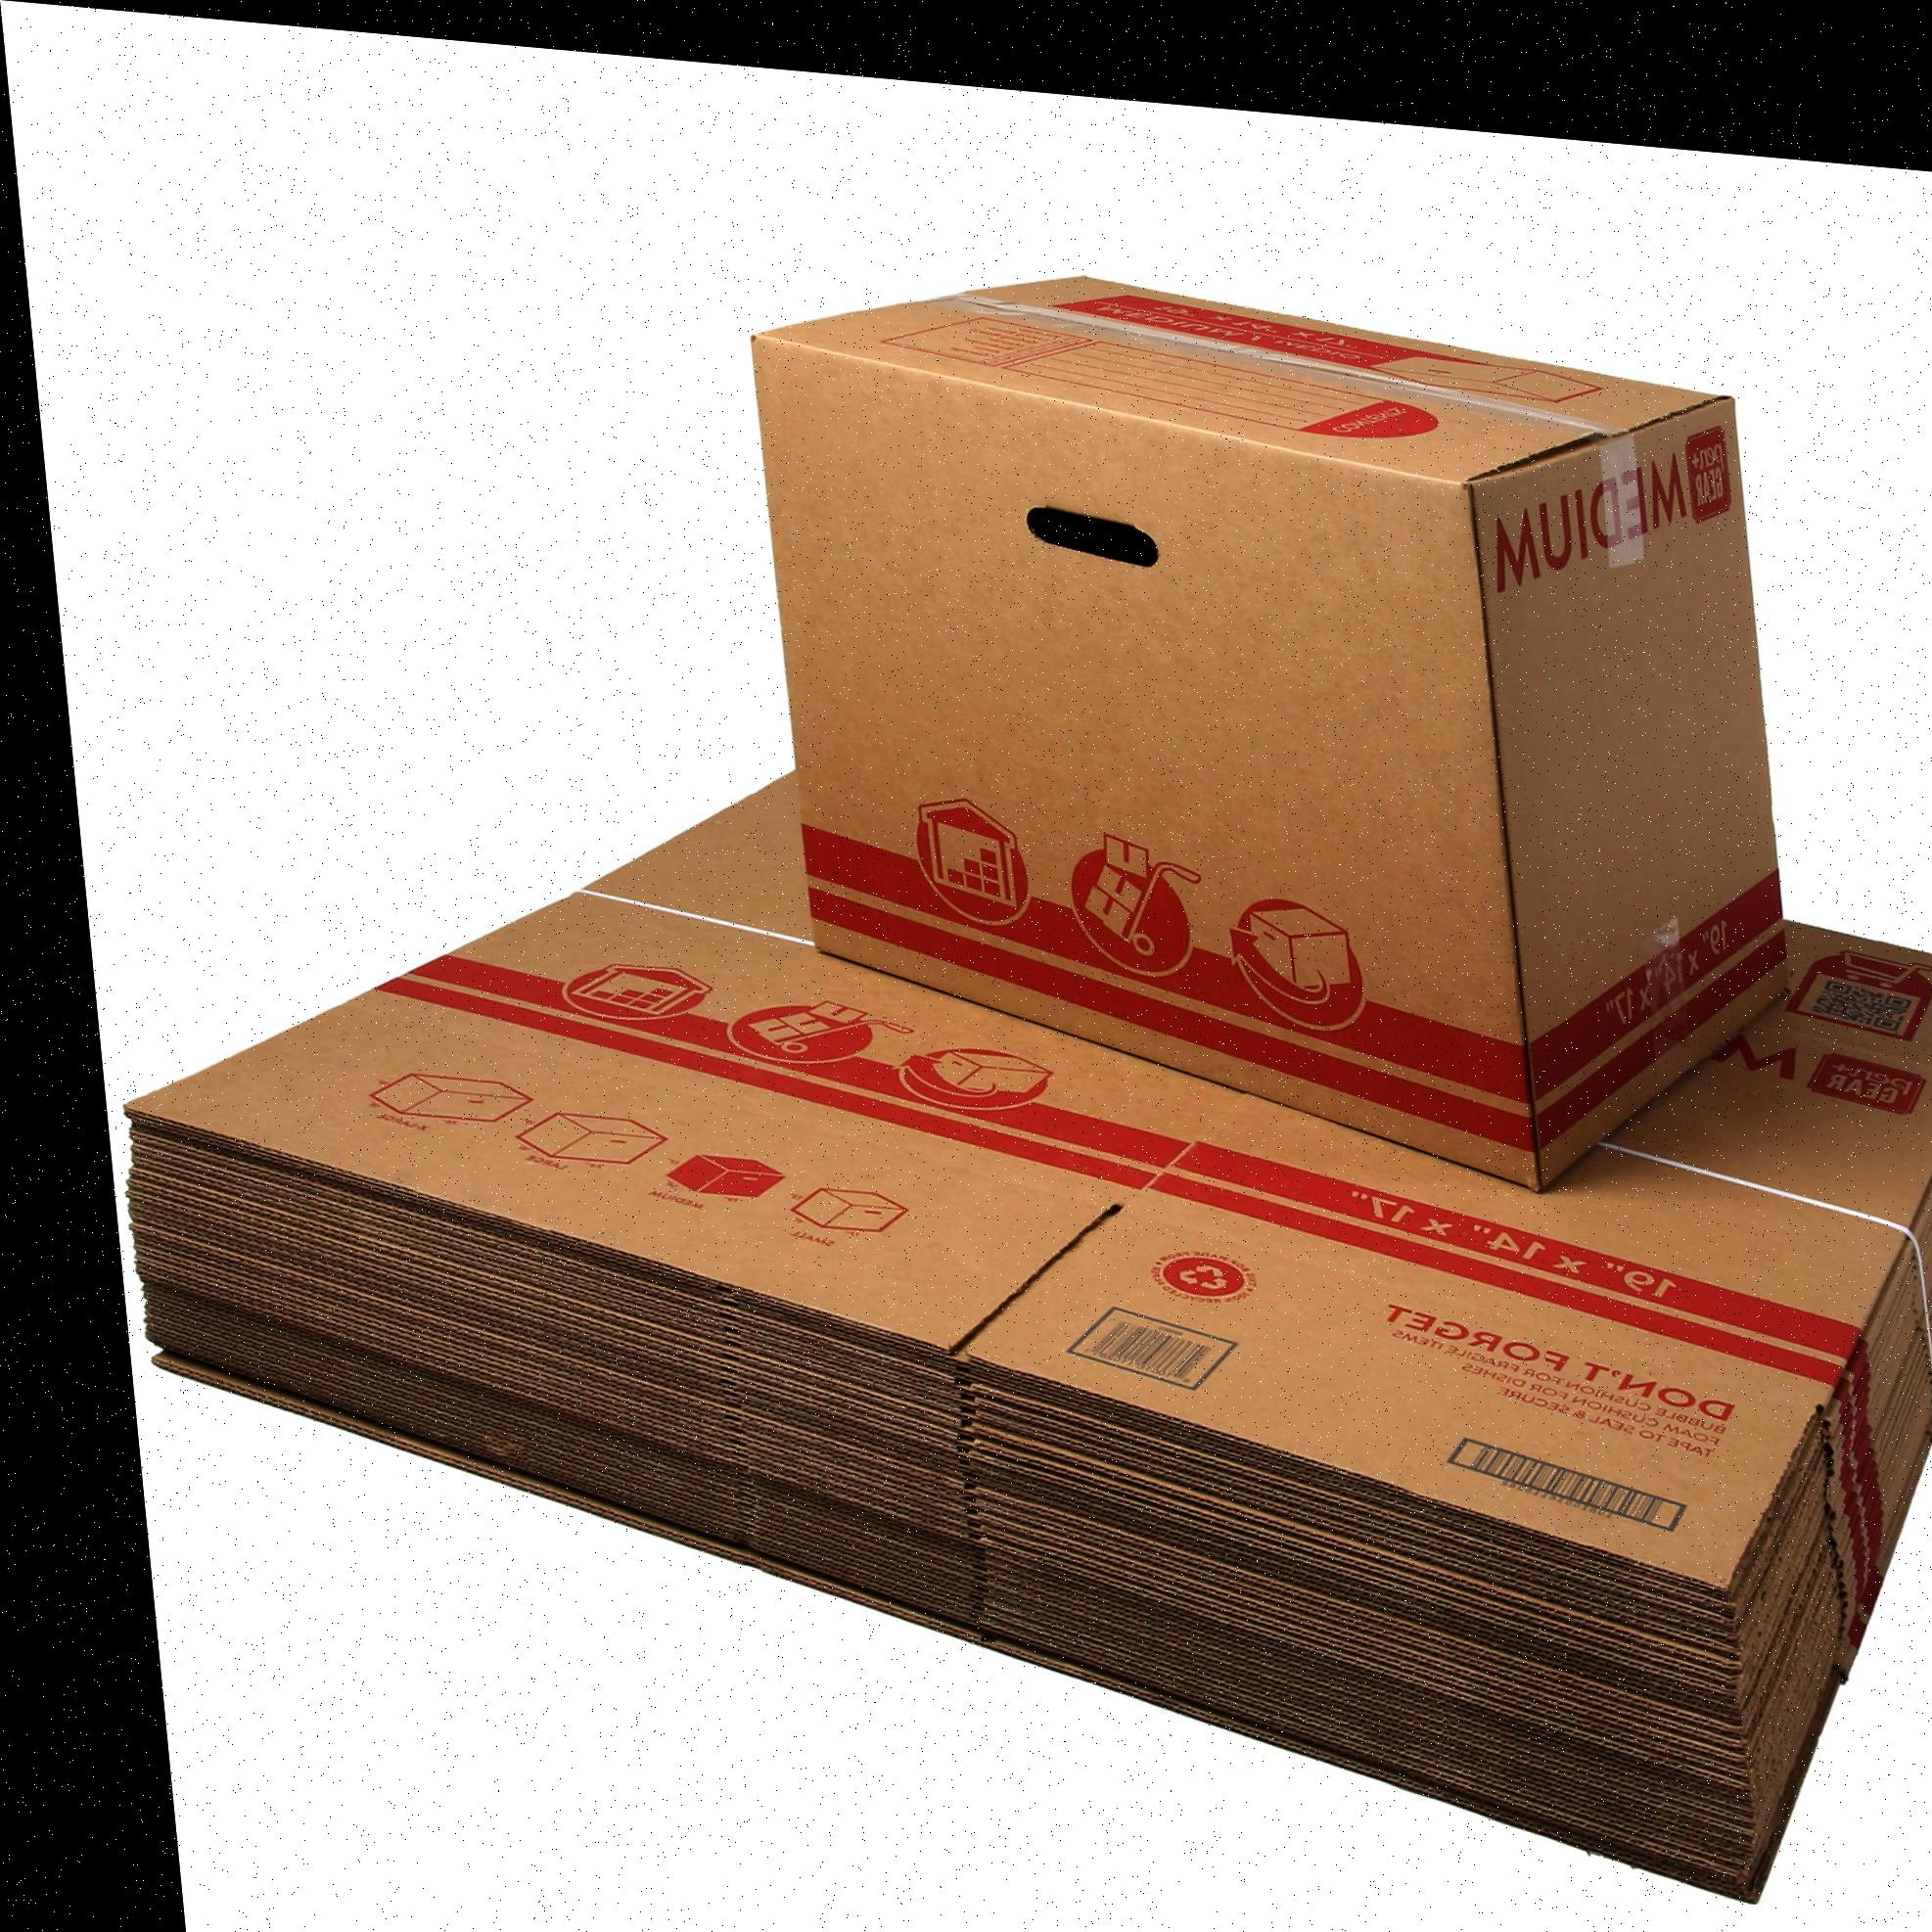cube: (649, 228, 1851, 1203)
